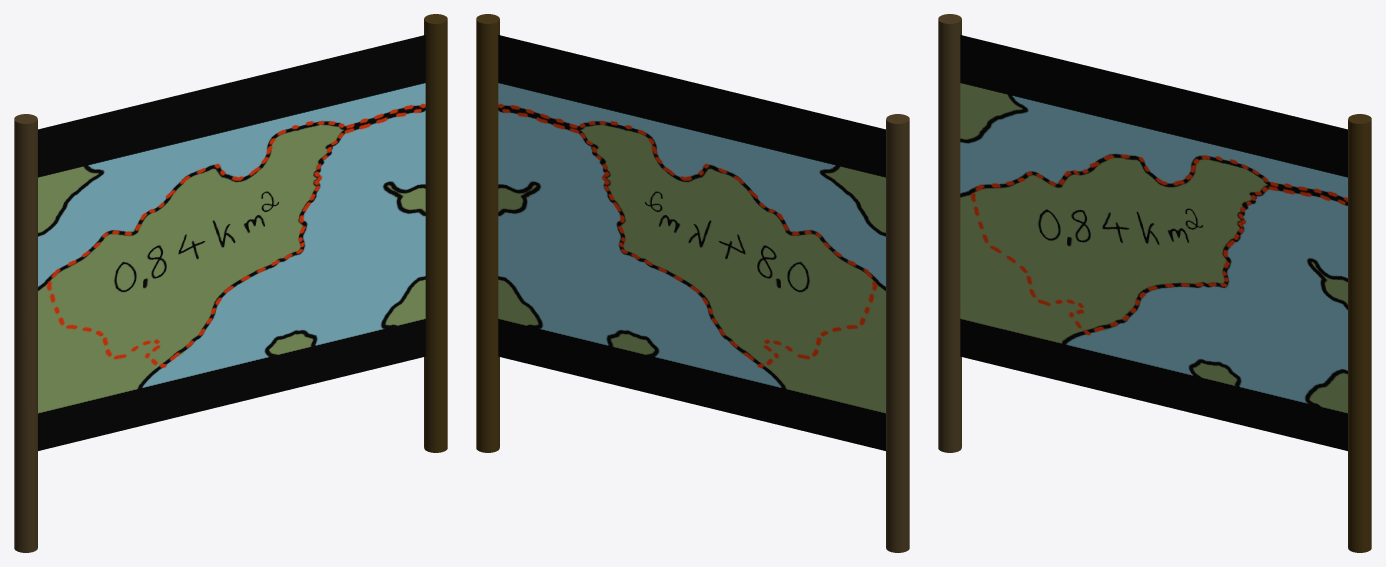
File: Funfact_Malta.glb
3 views of the same model, side by side, from view 1: azimuth 30°, elevation 25°; view 2: azimuth 150°, elevation 25°; view 3: azimuth 330°, elevation 25° (orthographic).
Parts seen in each view (by area): view 1: Plane, Cylinder, Cylinder.001; view 2: Plane, Cylinder, Cylinder.001; view 3: Plane, Cylinder.001, Cylinder.
Part boxes in pixels (x1,y1,x2,y2): Plane: [38, 35, 425, 450]; Cylinder: [14, 114, 37, 552]; Cylinder.001: [424, 14, 447, 452]; Plane: [498, 35, 885, 450]; Cylinder: [886, 114, 909, 552]; Cylinder.001: [476, 14, 499, 452]; Plane: [960, 35, 1347, 450]; Cylinder.001: [1348, 114, 1371, 552]; Cylinder: [938, 14, 961, 452].
Bounding box in the file's own units: 4.2 × 4 × 0.2.
3 materials, 1 textured.
